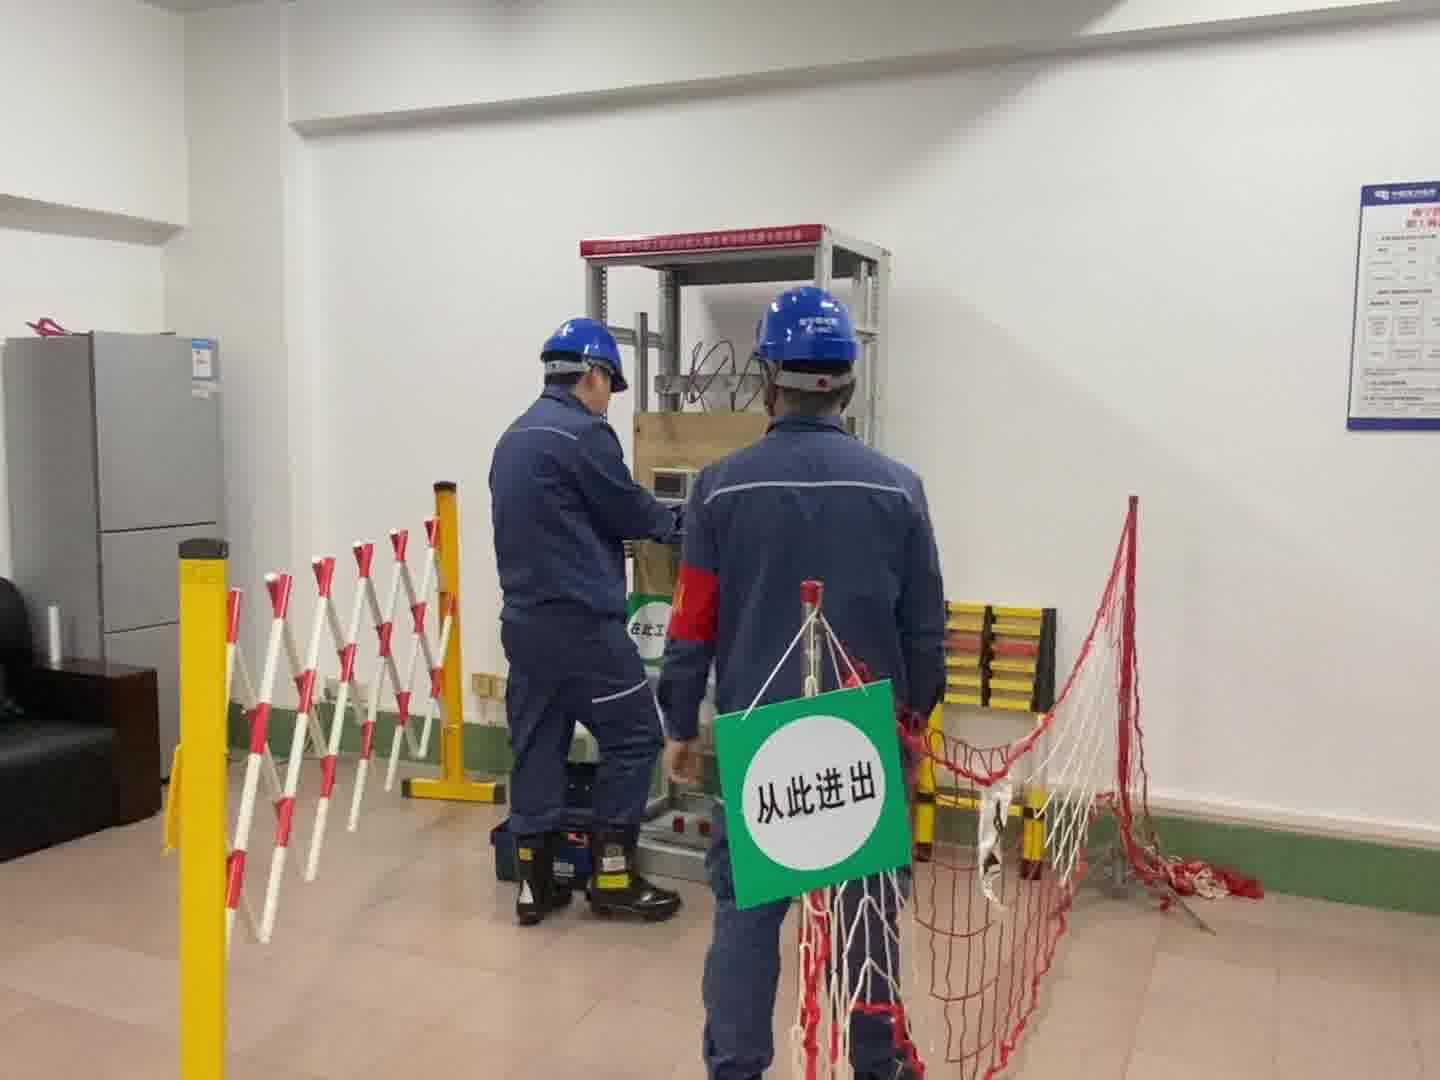badge: (667, 562, 723, 645)
downsuit: (700, 772, 927, 1080), (495, 630, 660, 855)
halt: (755, 282, 864, 409), (540, 316, 628, 403)
hand: (654, 731, 706, 787)
intosign: (704, 681, 930, 907)
noear: (580, 359, 607, 401)
person: (668, 280, 964, 1080), (481, 313, 676, 917)
shoe: (575, 817, 684, 925), (509, 825, 574, 927)
upsuit: (664, 419, 954, 703), (486, 389, 677, 613)
worksign: (625, 583, 682, 670)
